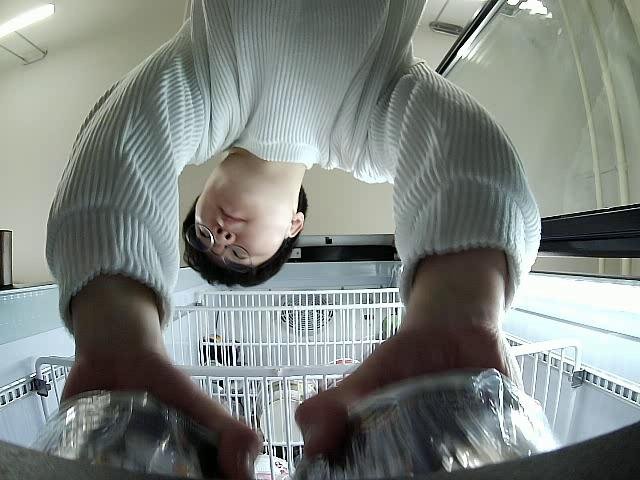00_hand: (295, 327, 521, 455), (58, 353, 261, 479)
07_buldak_L: (290, 368, 554, 480), (25, 395, 242, 480)
